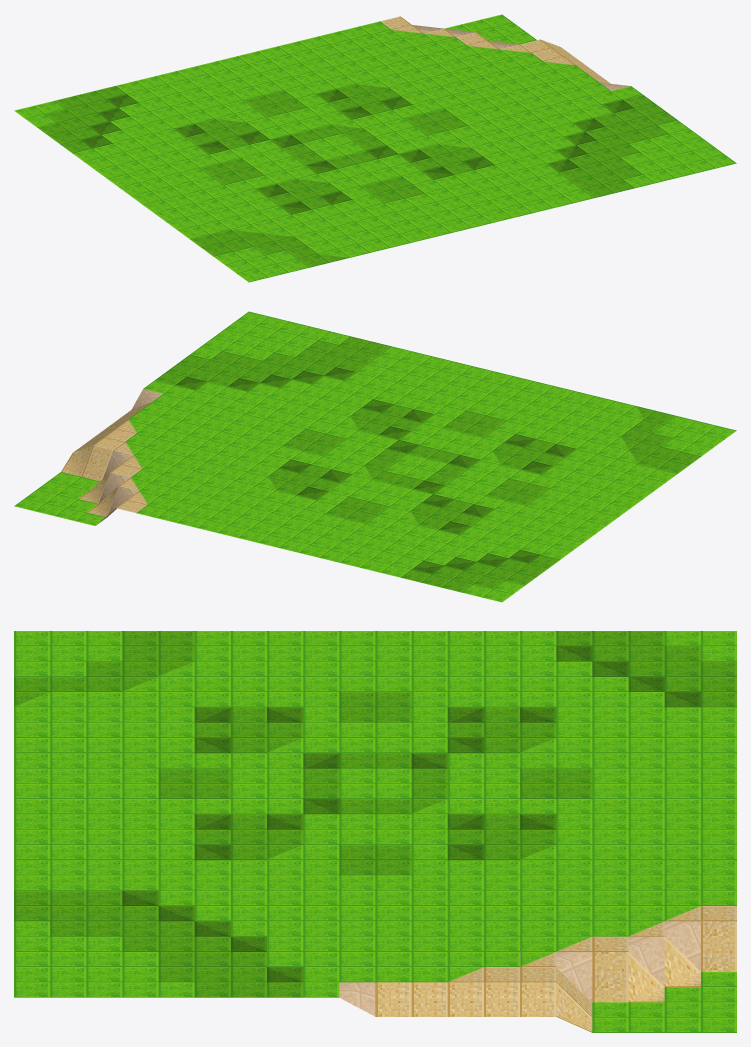
File: FloorSide_10.obj
3 views of the same model, one above another, from view 1: azimuth 30°, elevation 25°; view 2: azimuth 150°, elevation 25°; view 3: azimuth 270°, elevation 25° (orthographic). The views are drawn at different scales.
Visible parts, largest first — view 1: FloorSide_10; view 2: FloorSide_10; view 3: FloorSide_10.
Boxes of the visible parts, x1,y1,x2,y2 form: FloorSide_10: (14,14,736,282); FloorSide_10: (14,311,736,602); FloorSide_10: (14,631,736,1032).
Bounding box in the file's own units: 24 × 1.08 × 20.
